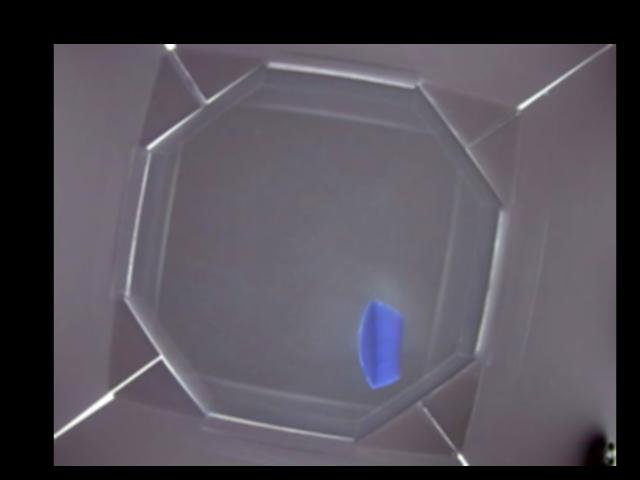Potato: (357, 300, 404, 391)
